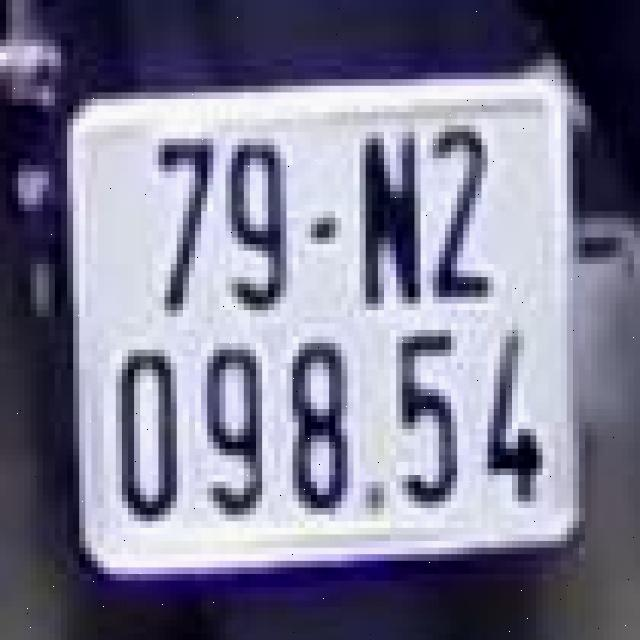0: (107, 340, 186, 538)
2: (429, 112, 496, 310)
4: (478, 326, 564, 504)
5: (387, 320, 466, 518)
7: (146, 125, 214, 317)
8: (284, 330, 356, 528)
9: (201, 333, 274, 525), (220, 129, 292, 320)
N: (348, 115, 427, 314)
